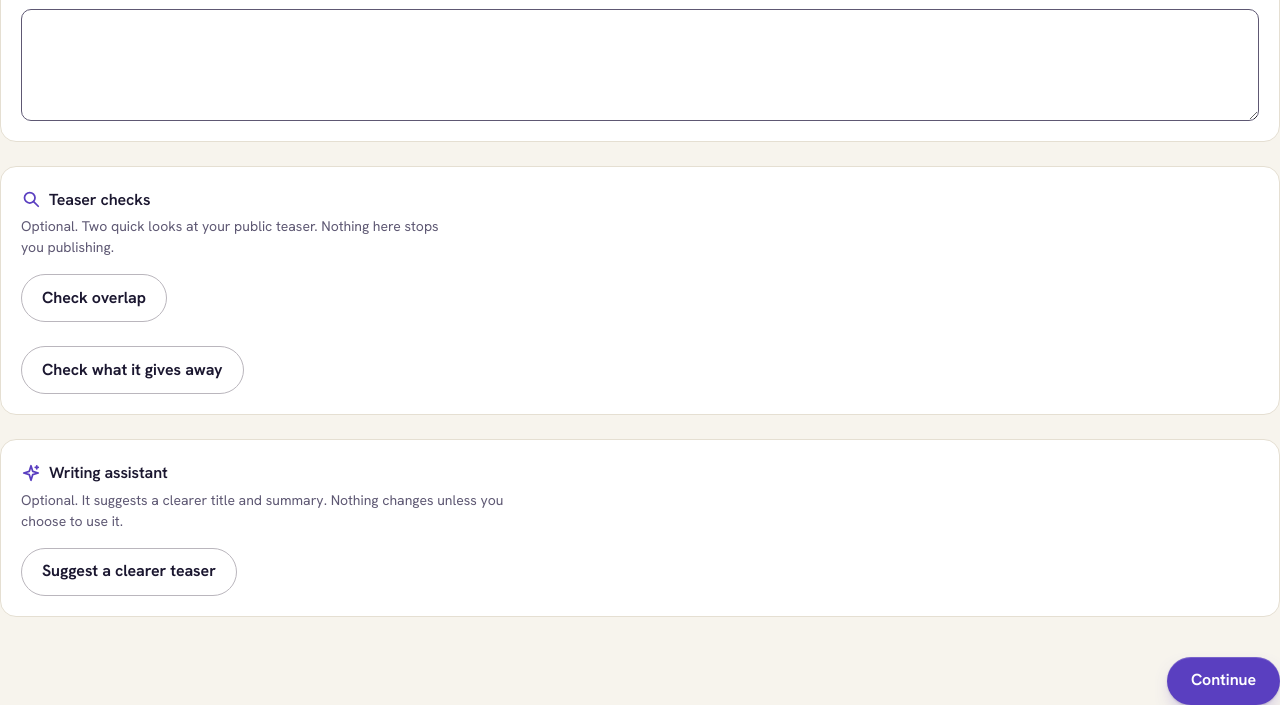
it: check what it gives away › names ["title","problem_statement"] after the sentence, so the label reads
(page scrolled)
Click the button "Check what it gives away" at (132, 370), box [21,346,244,394]
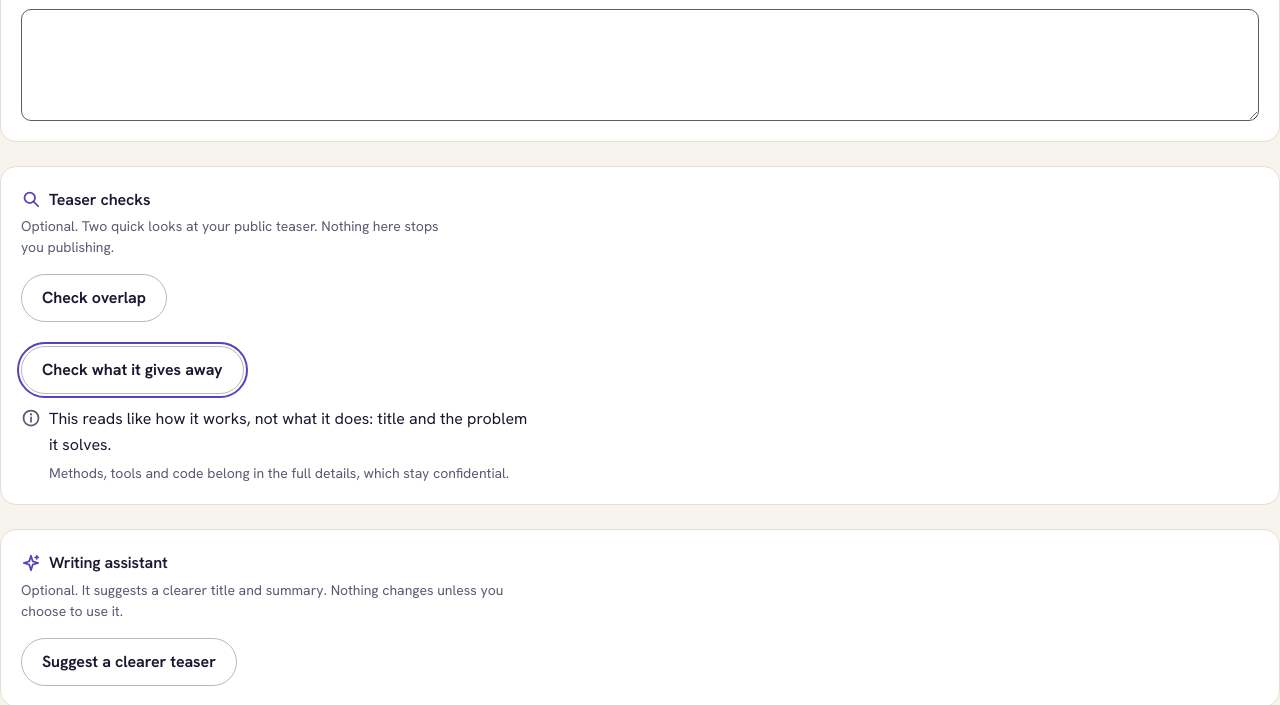
Expected: the text "This reads like how it works, not what it does: title and the problem it solves." is shown, [21,406,576,457]
